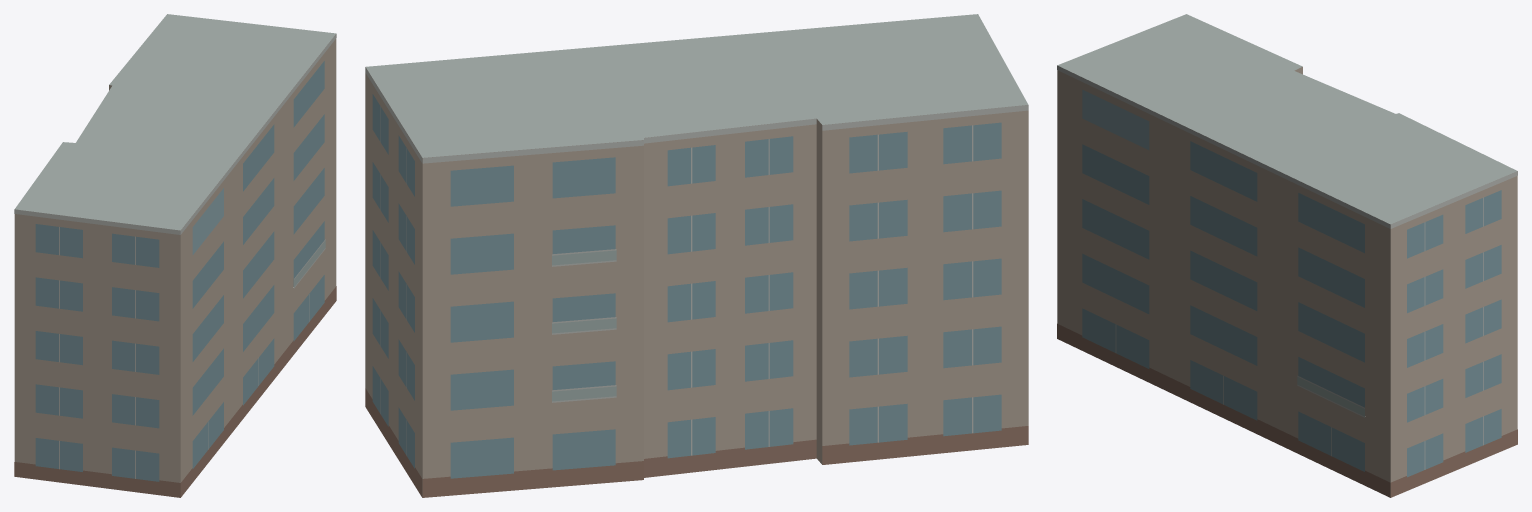
File: survey-upis-32523320.glb
The picture shows the model from 3 angles, left to right: view 1: azimuth 30°, elevation 25°; view 2: azimuth 150°, elevation 25°; view 3: azimuth 270°, elevation 25°; orthographic projection. The views are drawn at different scales.
Parts seen in each view (by area): view 1: survey-upis-32523320.tmp; view 2: survey-upis-32523320.tmp; view 3: survey-upis-32523320.tmp.
Boxes of the visible parts, x1,y1,x2,y2 form: survey-upis-32523320.tmp: (14, 14, 336, 497); survey-upis-32523320.tmp: (365, 14, 1028, 497); survey-upis-32523320.tmp: (1057, 14, 1517, 497).
Size of the model in its own units: 23.86 by 14.45 by 22.07.
